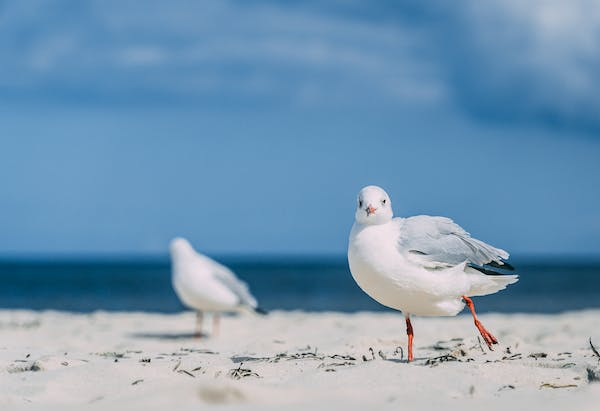Walking: (315, 178, 531, 359)
